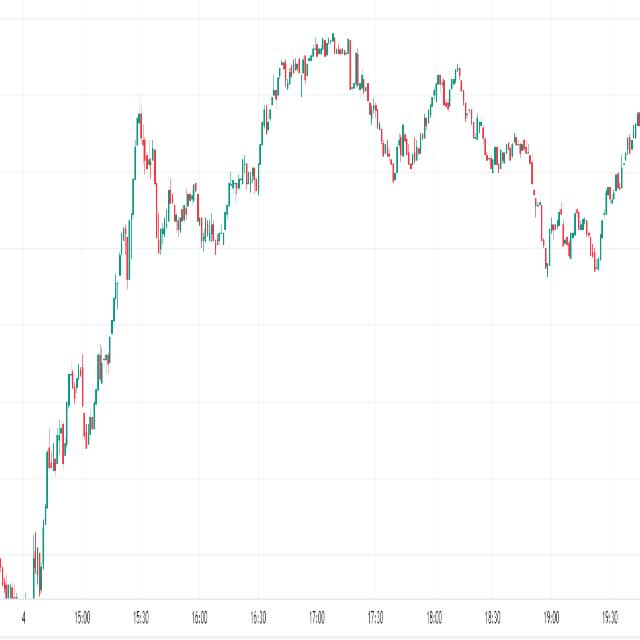Double-Top: (63, 348, 87, 422)
